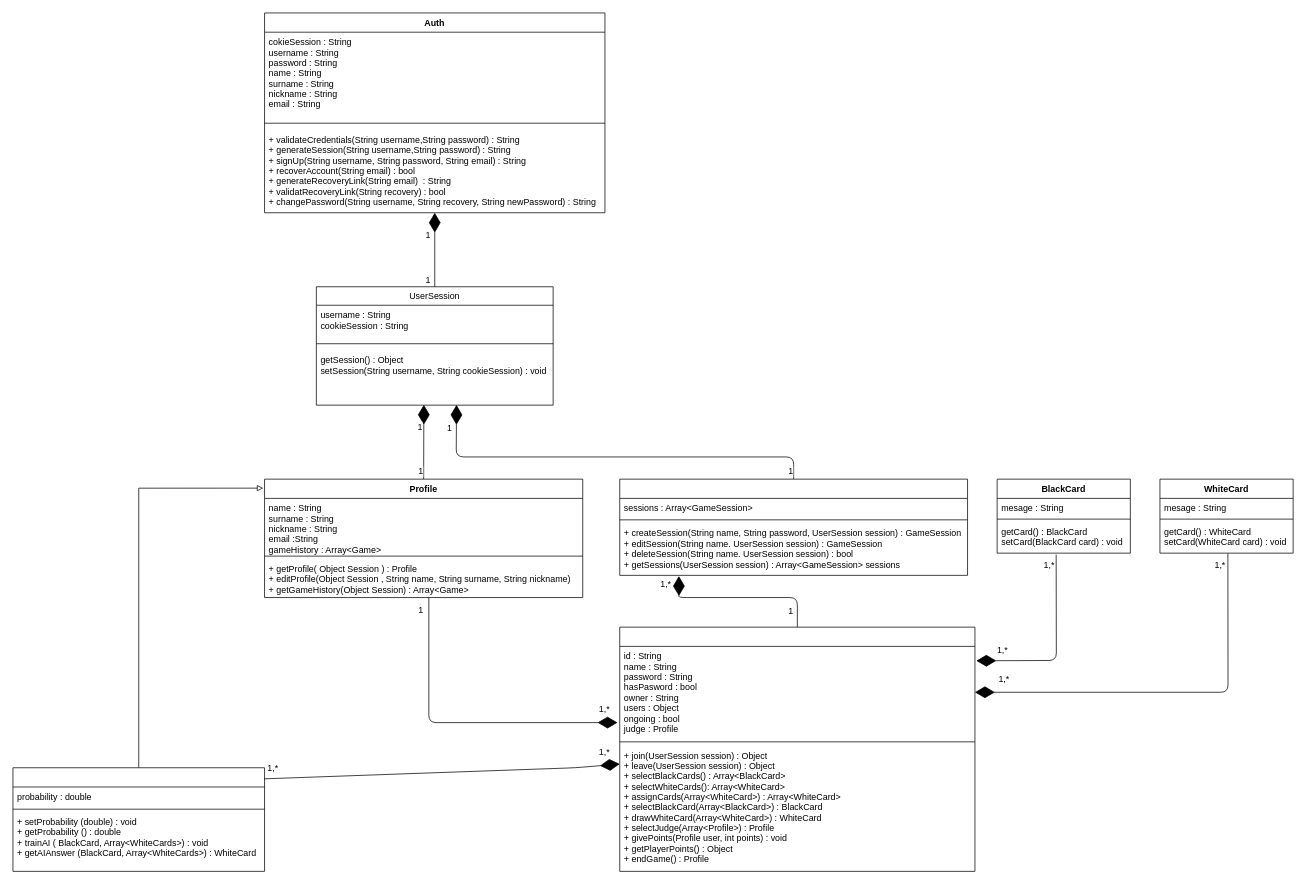
Some shapes in this 1306 by 887 pixel diagram are drawn without their labels. The box of each missing label's shape, as (x1, y1, x2, y2) in pixels:
AI Player: (12, 767, 265, 871)
GameSession: (619, 626, 975, 871)
GameSessions: (619, 478, 968, 575)
